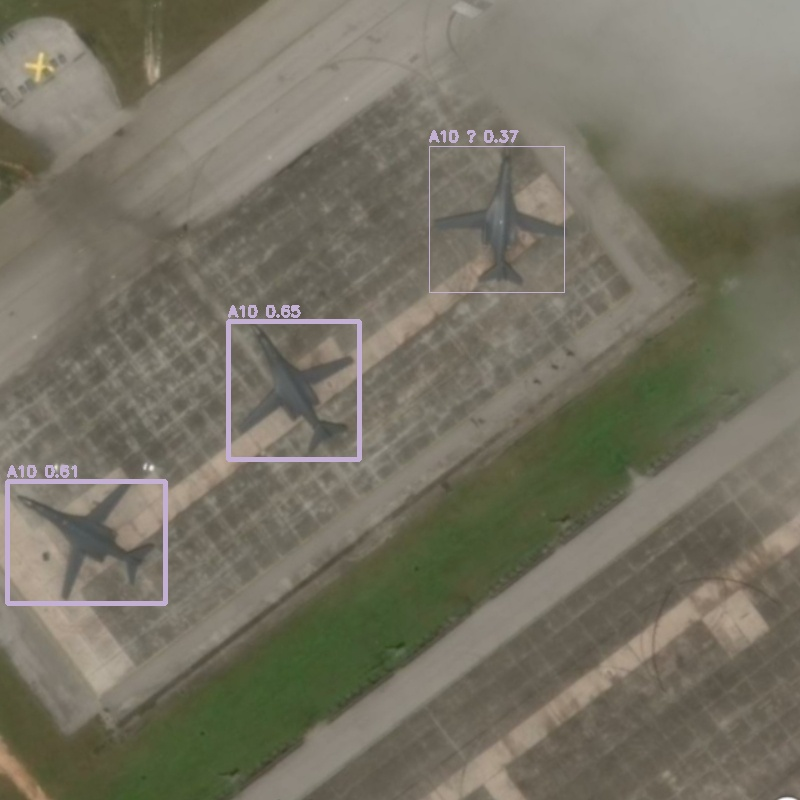A10: (429, 146, 564, 292), (7, 481, 165, 603), (228, 321, 359, 459)
